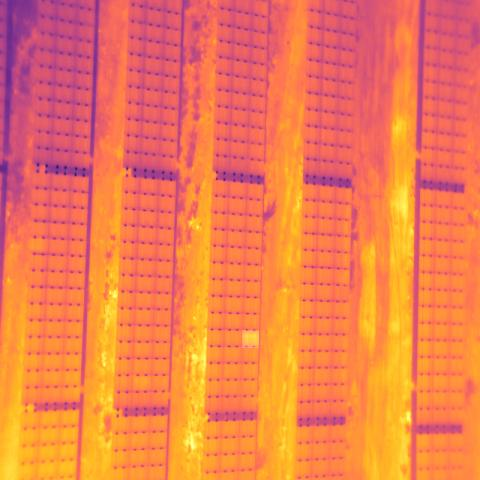fault: (242, 330, 259, 348)
